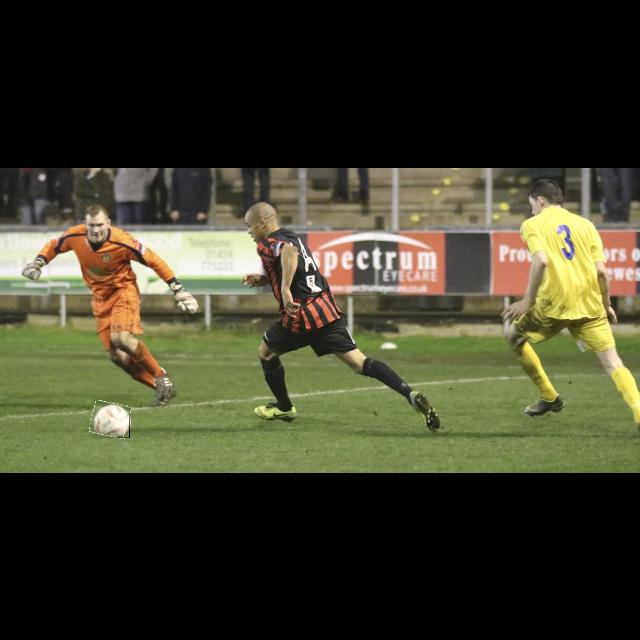Football: (90, 402, 130, 438)
